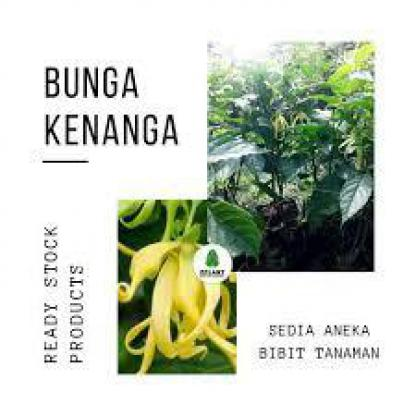Kenanga: (103, 219, 238, 365)
